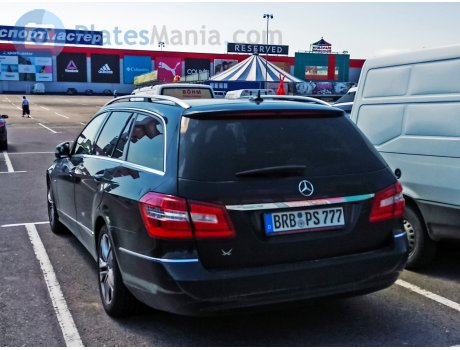License Plates: (274, 213, 344, 222)
